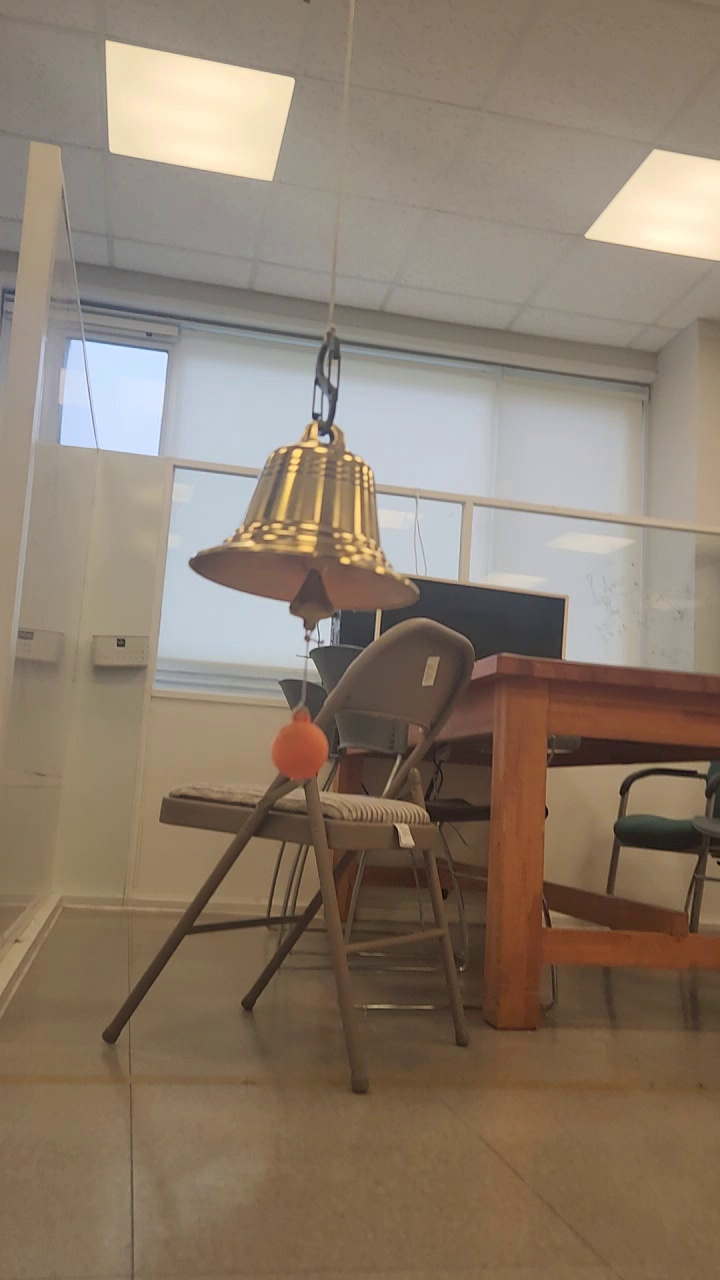bell: (184, 421, 424, 620)
